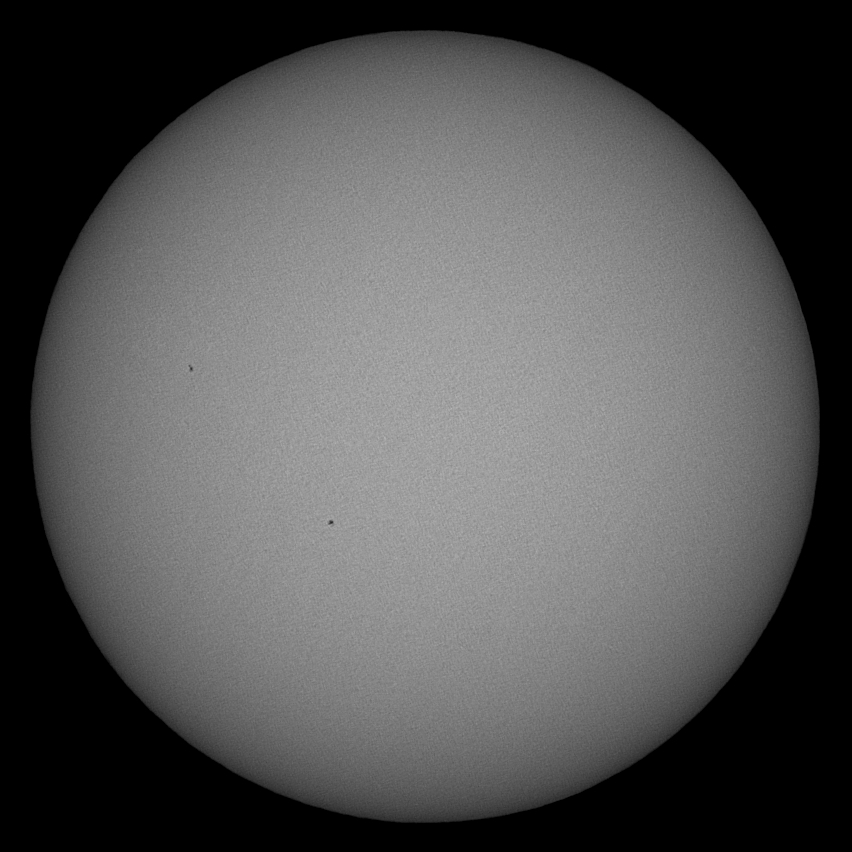sunspot: (325, 515, 338, 528), (185, 363, 197, 373)
